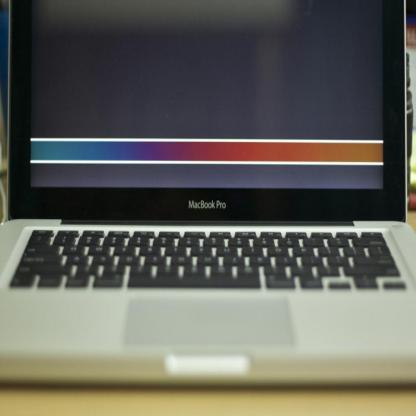board: (0, 0, 416, 388)
